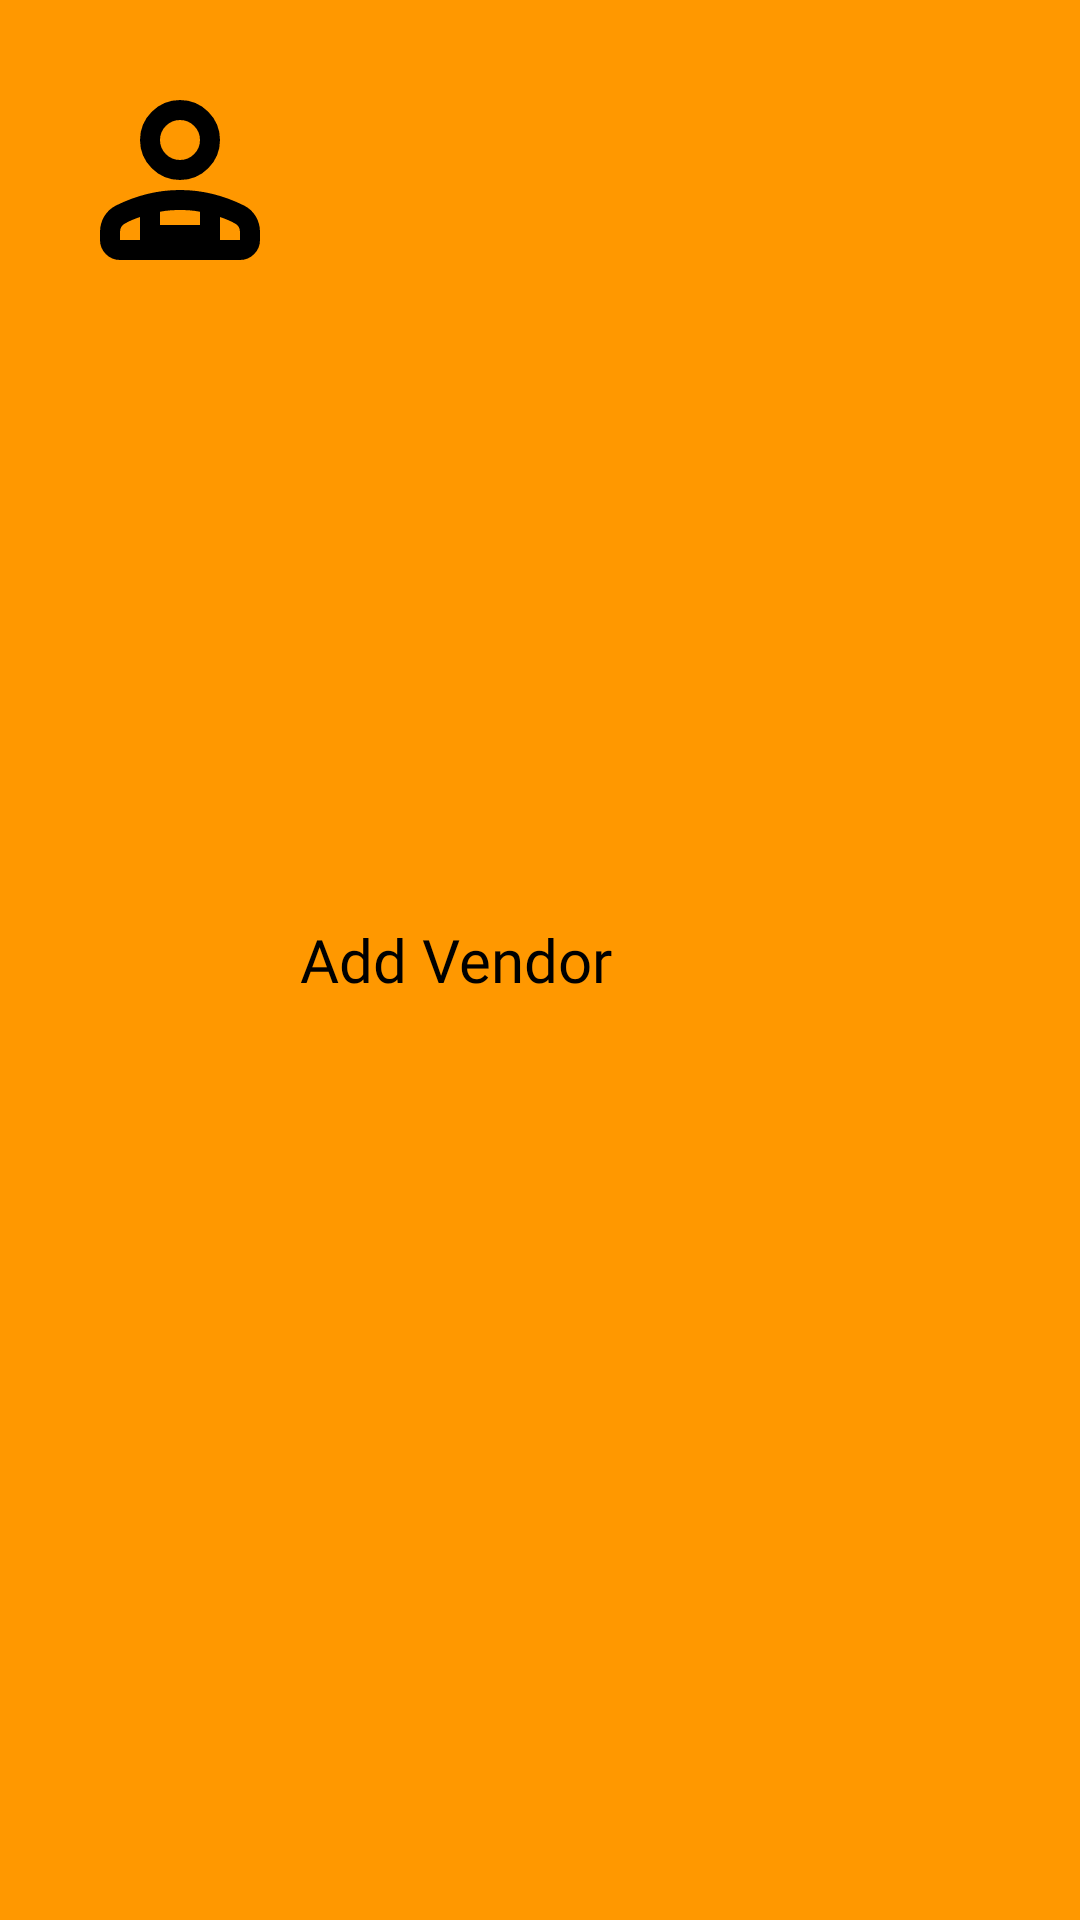

Named icons in this screenshot (1080 × 1920) and their bounding boxes, (x1=x1, y1=y1, x2=x2, y2=y2):
Vendor Icon: (x1=100, y1=100, x2=260, y2=260)
